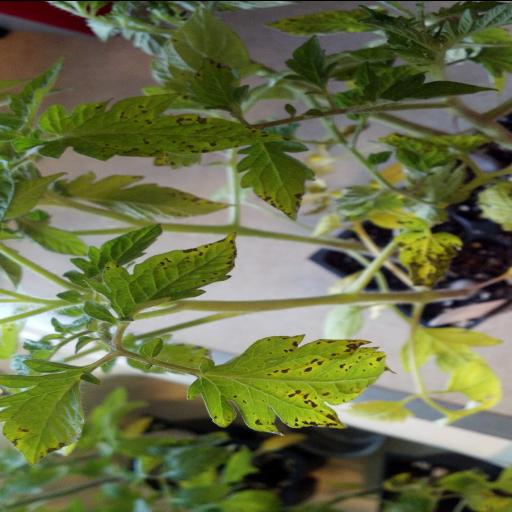Septoria: (189, 334, 403, 437), (31, 88, 305, 164), (79, 224, 241, 326), (0, 354, 101, 474), (235, 126, 317, 224), (386, 224, 474, 291), (178, 56, 250, 114)
